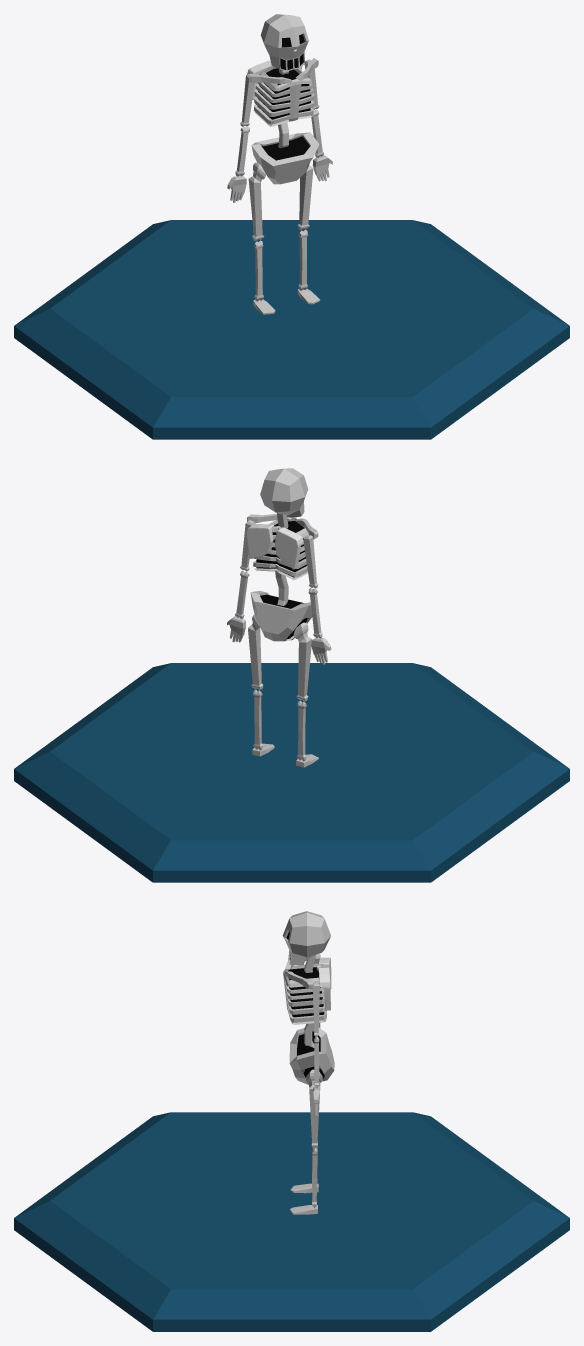
File: Default_Figure.fbx
3 views of the same model, one above another, from view 1: azimuth 30°, elevation 25°; view 2: azimuth 150°, elevation 25°; view 3: azimuth 270°, elevation 25° (orthographic).
Parts seen in each view (by area): view 1: Base, Ribs, Waist, Skull, Upper Leg Right, Upper Leg Left, Collar Bones; view 2: Base, Waist, Skull, Shoulder, Ribs, Upper Leg Right, Upper Leg Left; view 3: Base, Skull, Ribs, Waist, Upper Leg Left, Shoulder.
Boxes of the visible parts, x1,y1,x2,y2 form: Base: (14, 220, 569, 439); Ribs: (254, 66, 314, 126); Waist: (251, 132, 319, 184); Skull: (260, 14, 308, 71); Upper Leg Right: (248, 162, 265, 241); Upper Leg Left: (297, 165, 313, 230); Collar Bones: (247, 58, 318, 83); Base: (14, 663, 569, 882); Waist: (250, 591, 312, 641); Skull: (260, 468, 308, 517); Shoulder: (246, 524, 303, 569); Ribs: (253, 518, 308, 579); Upper Leg Right: (293, 622, 312, 701); Upper Leg Left: (248, 614, 263, 689); Base: (14, 1112, 569, 1331); Skull: (282, 911, 330, 965); Ribs: (283, 963, 326, 1024); Waist: (289, 1027, 334, 1084); Upper Leg Left: (306, 1069, 322, 1148); Shoulder: (318, 957, 331, 1010).
Bounding box in the file's own units: 483 × 352 × 558.
